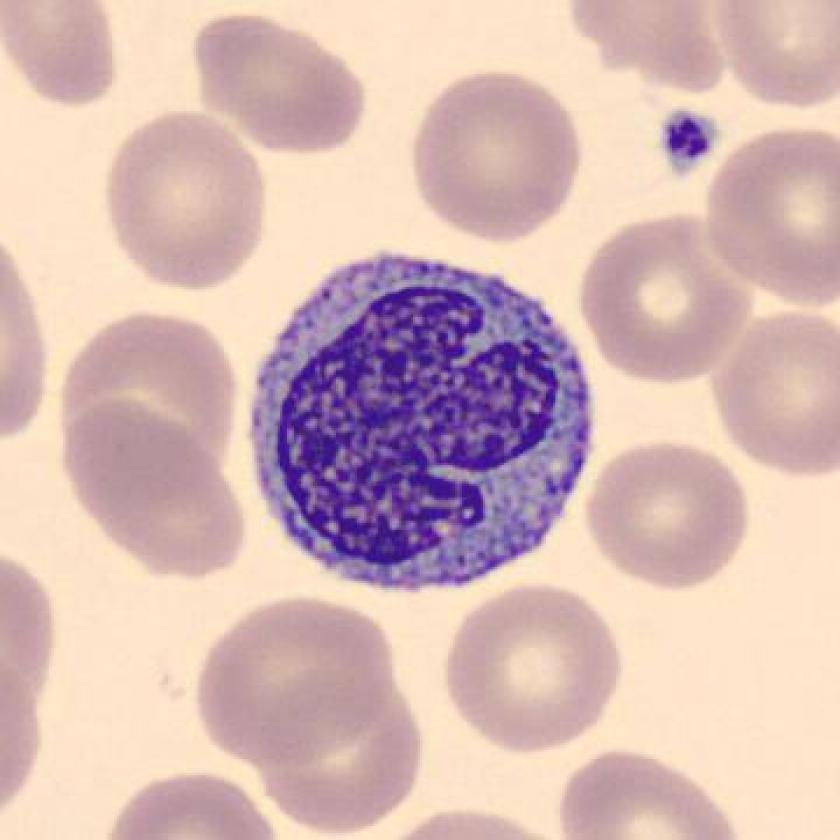monocyte: (237, 235, 608, 605)
